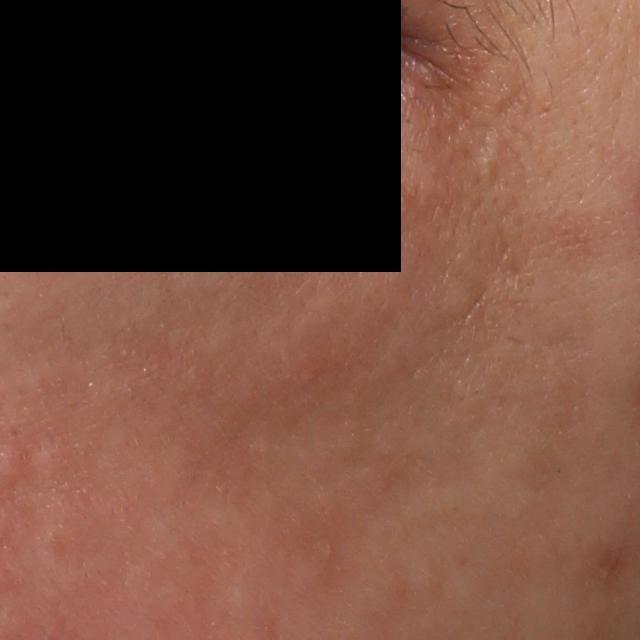hypertrophic_scar: (476, 128, 510, 188)
